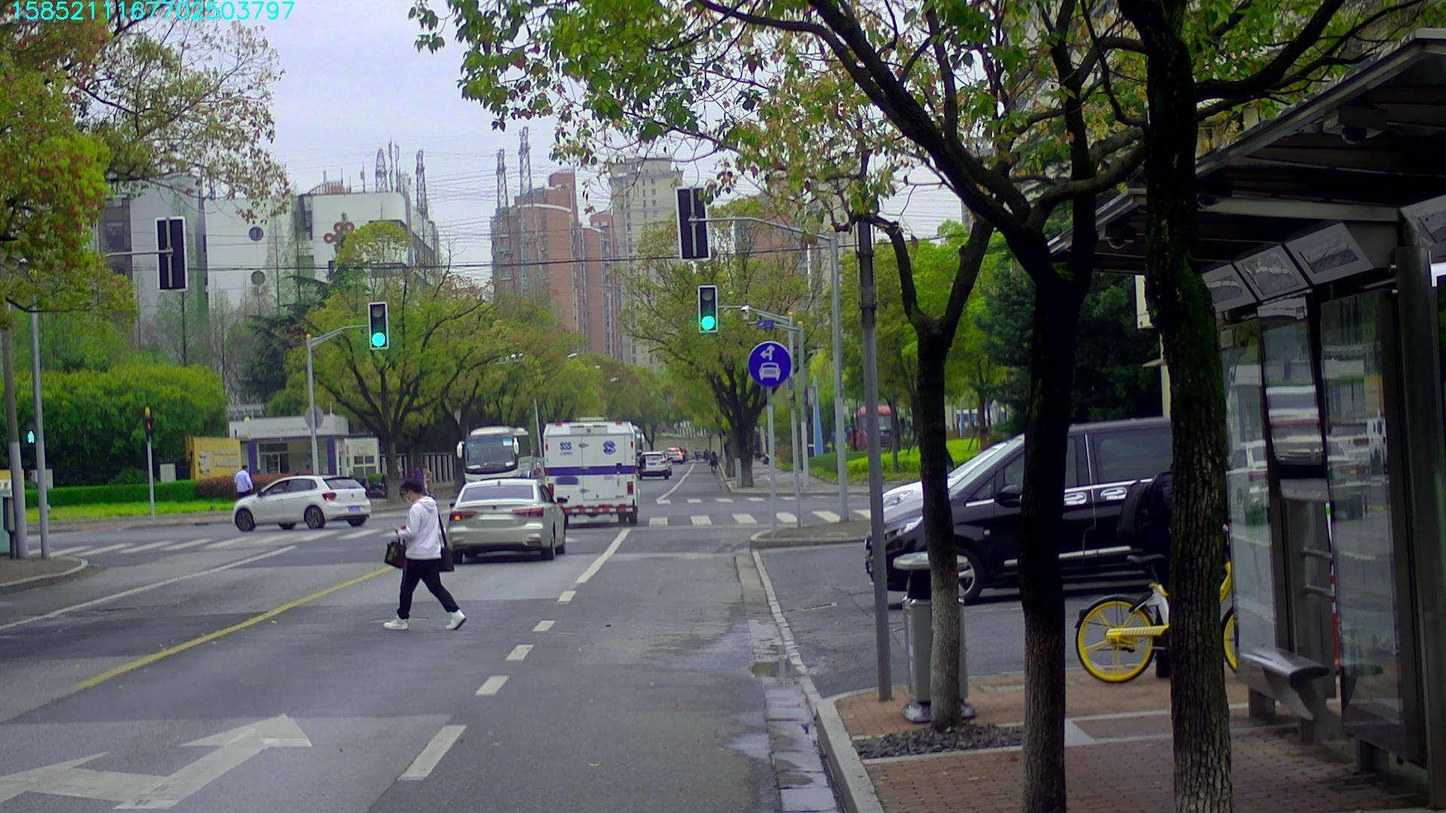green: (369, 303, 387, 348), (698, 285, 716, 330)
